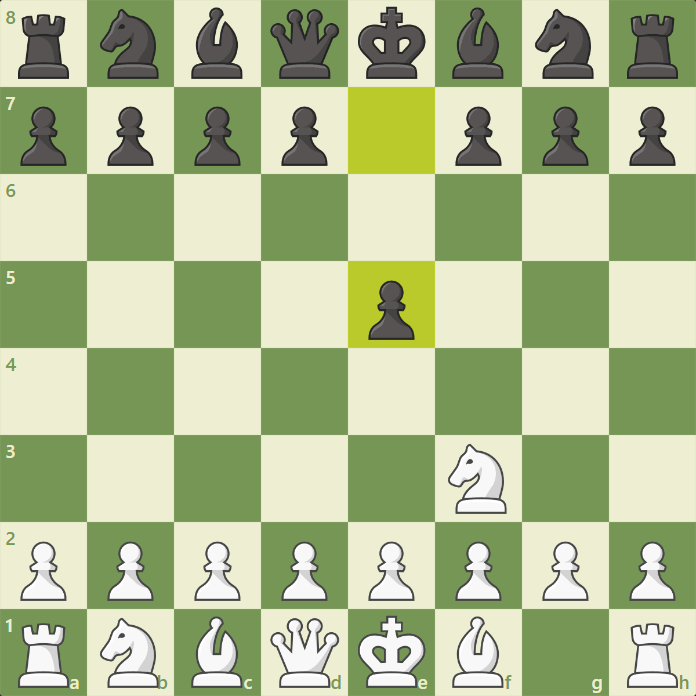B: (449, 613, 508, 691), (189, 614, 245, 692)
K: (355, 613, 429, 691)
N: (444, 441, 511, 518), (97, 615, 163, 691)
P: (17, 538, 70, 604), (102, 539, 155, 605), (191, 539, 244, 605), (276, 538, 329, 604), (364, 539, 417, 605), (450, 539, 503, 605), (538, 539, 591, 605), (626, 539, 679, 605)
Q: (269, 614, 342, 691)
R: (14, 621, 74, 692), (621, 621, 681, 692)
b: (185, 5, 245, 82), (447, 5, 506, 83)
k: (353, 4, 430, 82)
n: (95, 7, 163, 82), (531, 5, 597, 82)
p: (361, 276, 417, 344), (16, 105, 70, 170), (101, 106, 155, 171), (191, 105, 245, 170), (277, 105, 331, 170), (449, 104, 503, 169), (537, 105, 591, 170), (625, 105, 679, 170)
q: (266, 5, 343, 82)
r: (624, 10, 683, 82), (14, 10, 73, 82)
